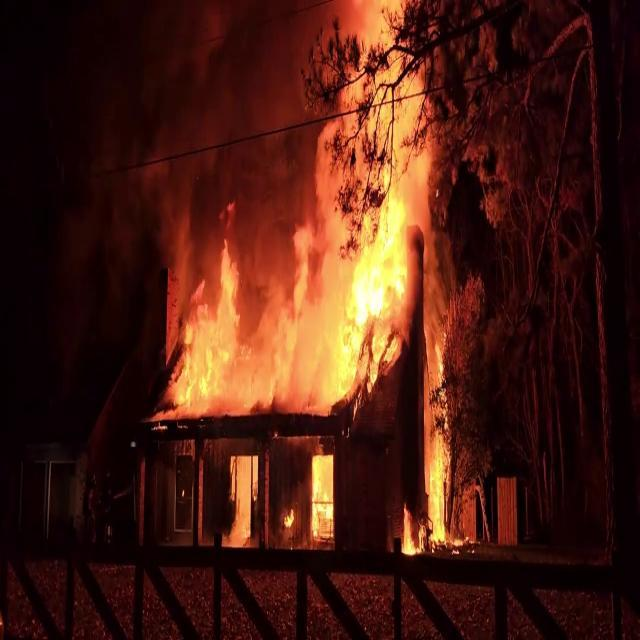Fire: (152, 165, 456, 436)
Smoke: (81, 0, 337, 277)
